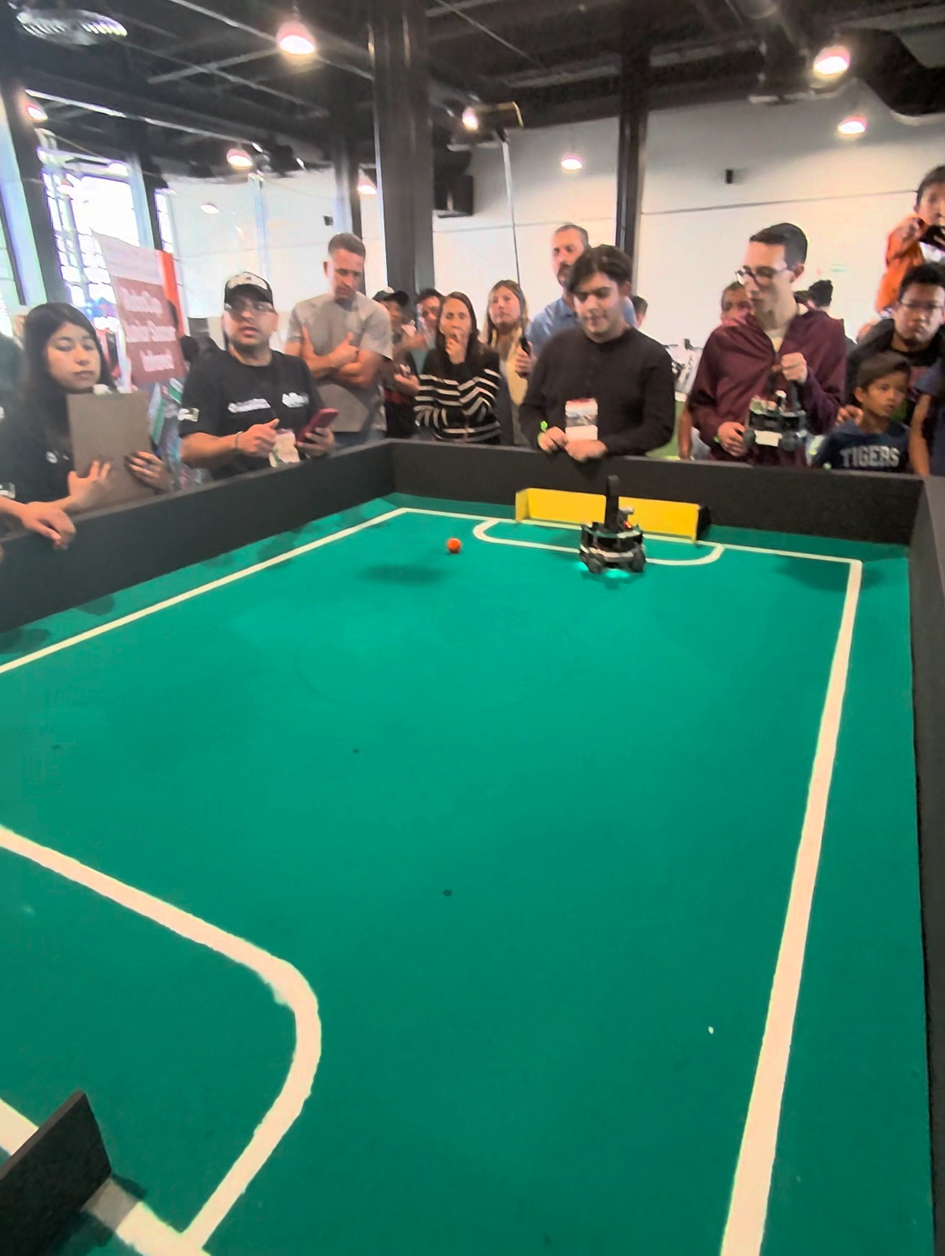Robot: (578, 479, 654, 589)
pelota: (447, 537, 464, 556)
